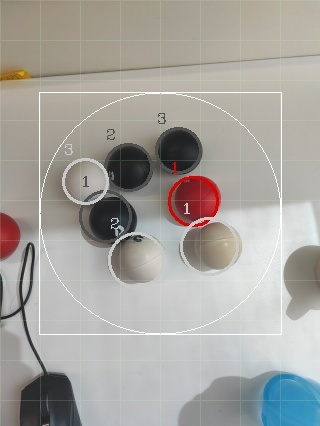Pelota blanca: (177, 220, 243, 272), (175, 377, 243, 425), (108, 230, 166, 286), (281, 244, 320, 320), (60, 156, 110, 206)
Pelota negra: (18, 371, 81, 425), (260, 371, 320, 425), (79, 193, 137, 248), (153, 126, 203, 176), (103, 142, 153, 192)
Pelota roja: (167, 174, 222, 227), (0, 212, 22, 262)
